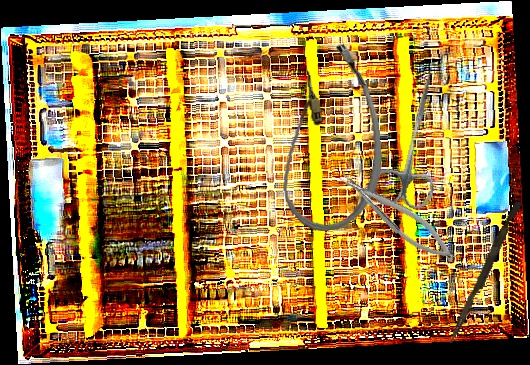Cannula: (271, 40, 388, 235)
Iris Scissors: (367, 62, 460, 215)
Needle Holder: (334, 161, 462, 272)
Pusher: (448, 199, 522, 346)
